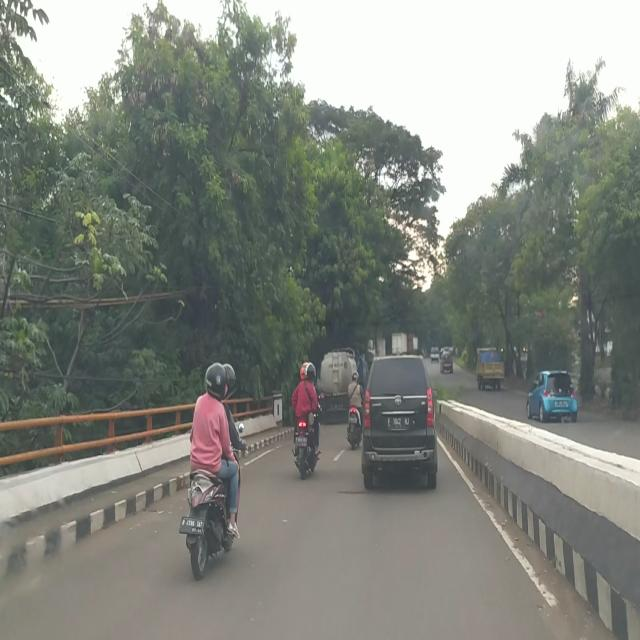Sewer Cover: (332, 489, 368, 495)
